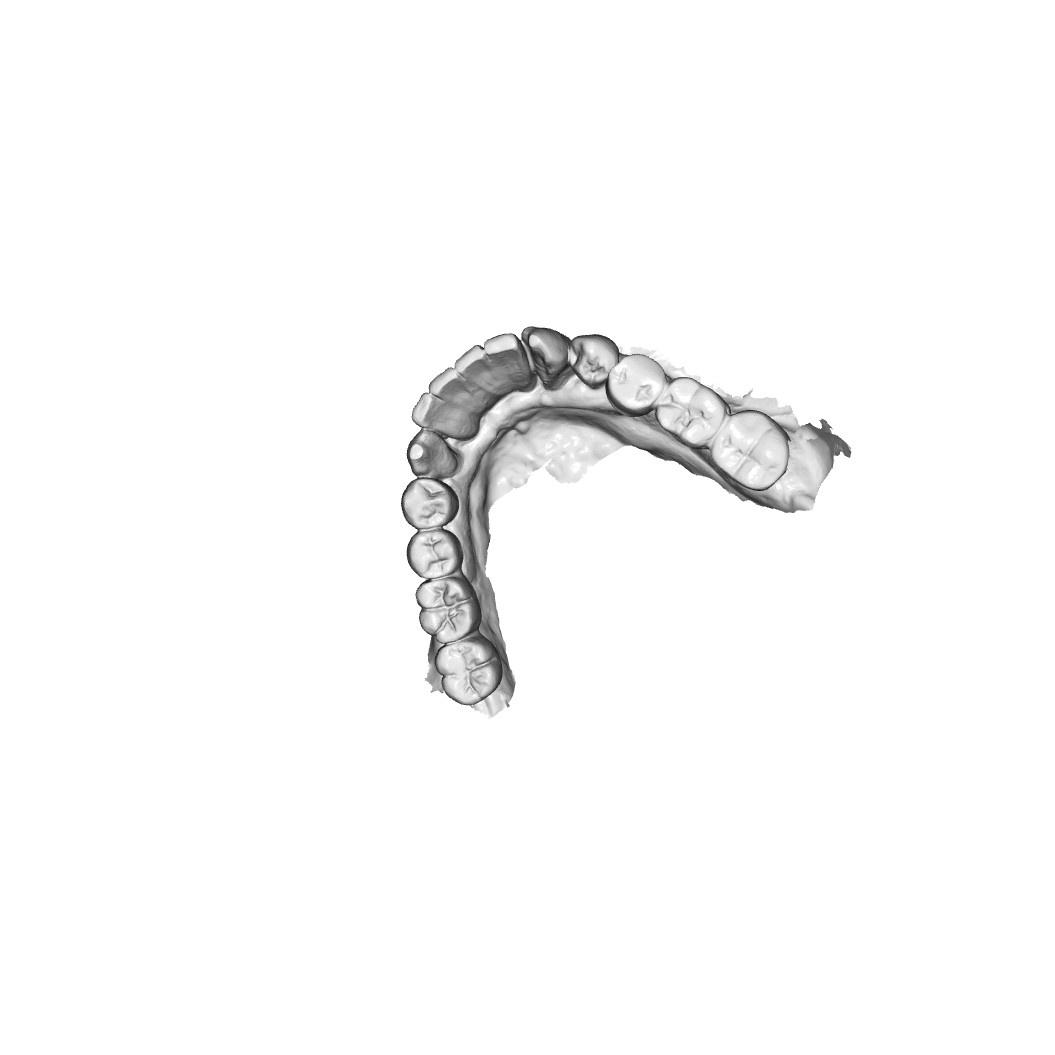canine: (527, 320, 569, 391), (409, 430, 454, 478)
incisor: (412, 393, 480, 447), (460, 343, 509, 406), (431, 368, 488, 418), (487, 333, 534, 392)
molar: (712, 408, 791, 492), (655, 376, 724, 448), (432, 640, 503, 707), (412, 575, 479, 644)
premolar: (564, 331, 618, 394), (397, 477, 455, 531), (609, 352, 661, 410), (407, 530, 459, 581)
